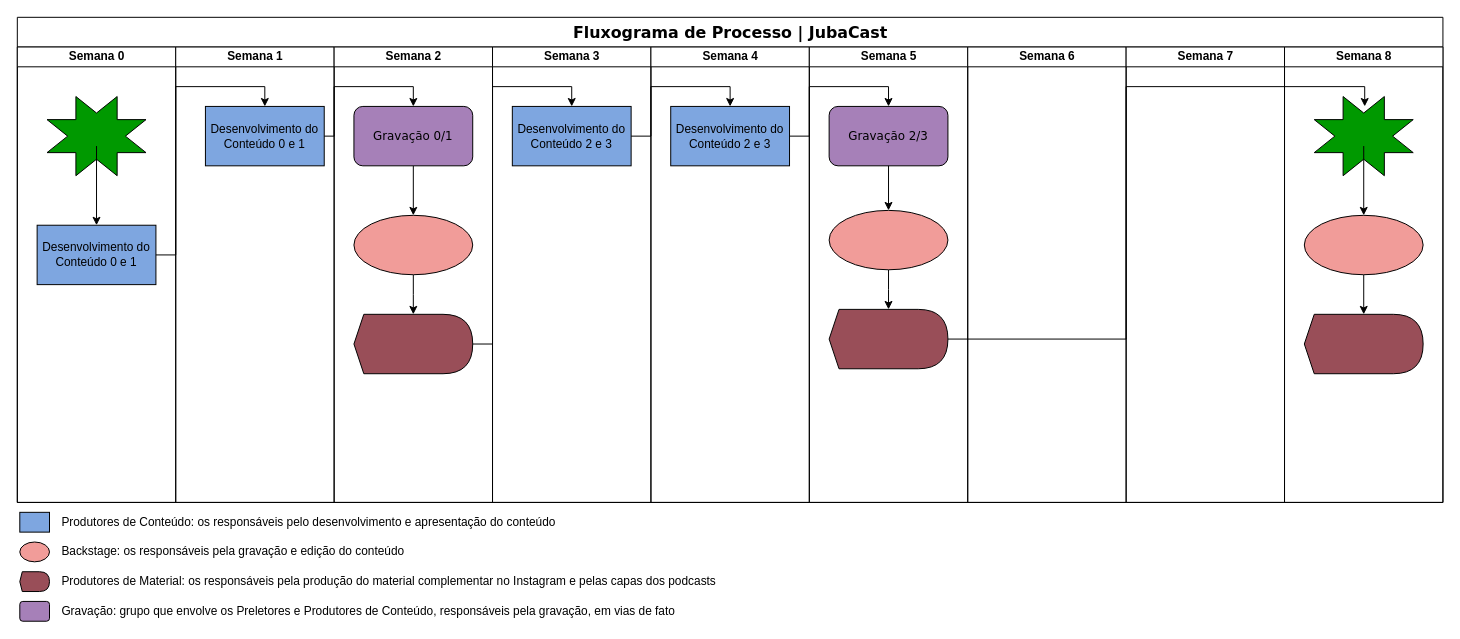
The diagram is 1460 pixels wide and 639 high, and some of its shapes have lost their labels. Each missing label, with the centre of its shape:
Edição 0/1: [413,244]
Edição 2/3: [888,239]
Estreia: [1363,136]
Kickoff: [96,136]
Produção Visual 0/1: [413,343]
Produção Visual 2/3: [888,338]
Publicação 0: [1363,244]
Publicação Visual 0: [1363,343]
